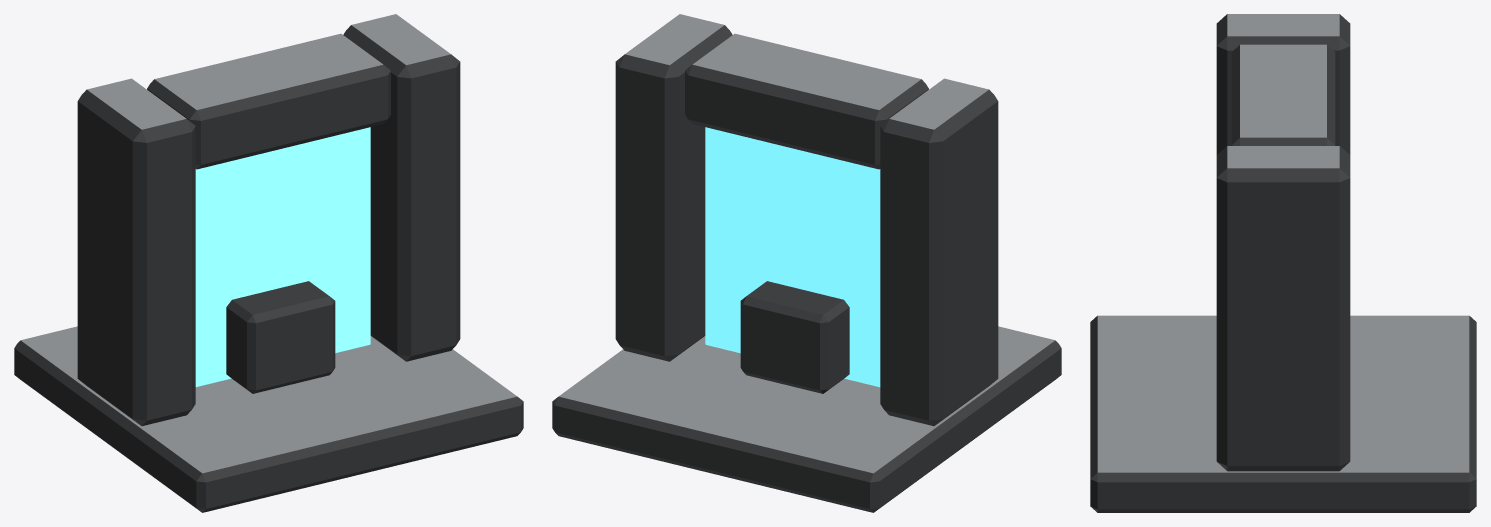
Rendered from R4X_StructuralScanner_LOD1.fbx.
3 renders of one model, left to right at view 1: azimuth 30°, elevation 25°; view 2: azimuth 150°, elevation 25°; view 3: azimuth 270°, elevation 25°, orthographic. The views are drawn at different scales.
Parts seen in each view (by area): view 1: R4X_StructuralScanner_LOD1; view 2: R4X_StructuralScanner_LOD1; view 3: R4X_StructuralScanner_LOD1.
Boxes of the visible parts, <box> form: R4X_StructuralScanner_LOD1: <box>14,14,523,512</box>; R4X_StructuralScanner_LOD1: <box>552,14,1061,512</box>; R4X_StructuralScanner_LOD1: <box>1090,14,1476,512</box>.
Bounding box in the file's own units: 0.52 × 0.51 × 0.52.
